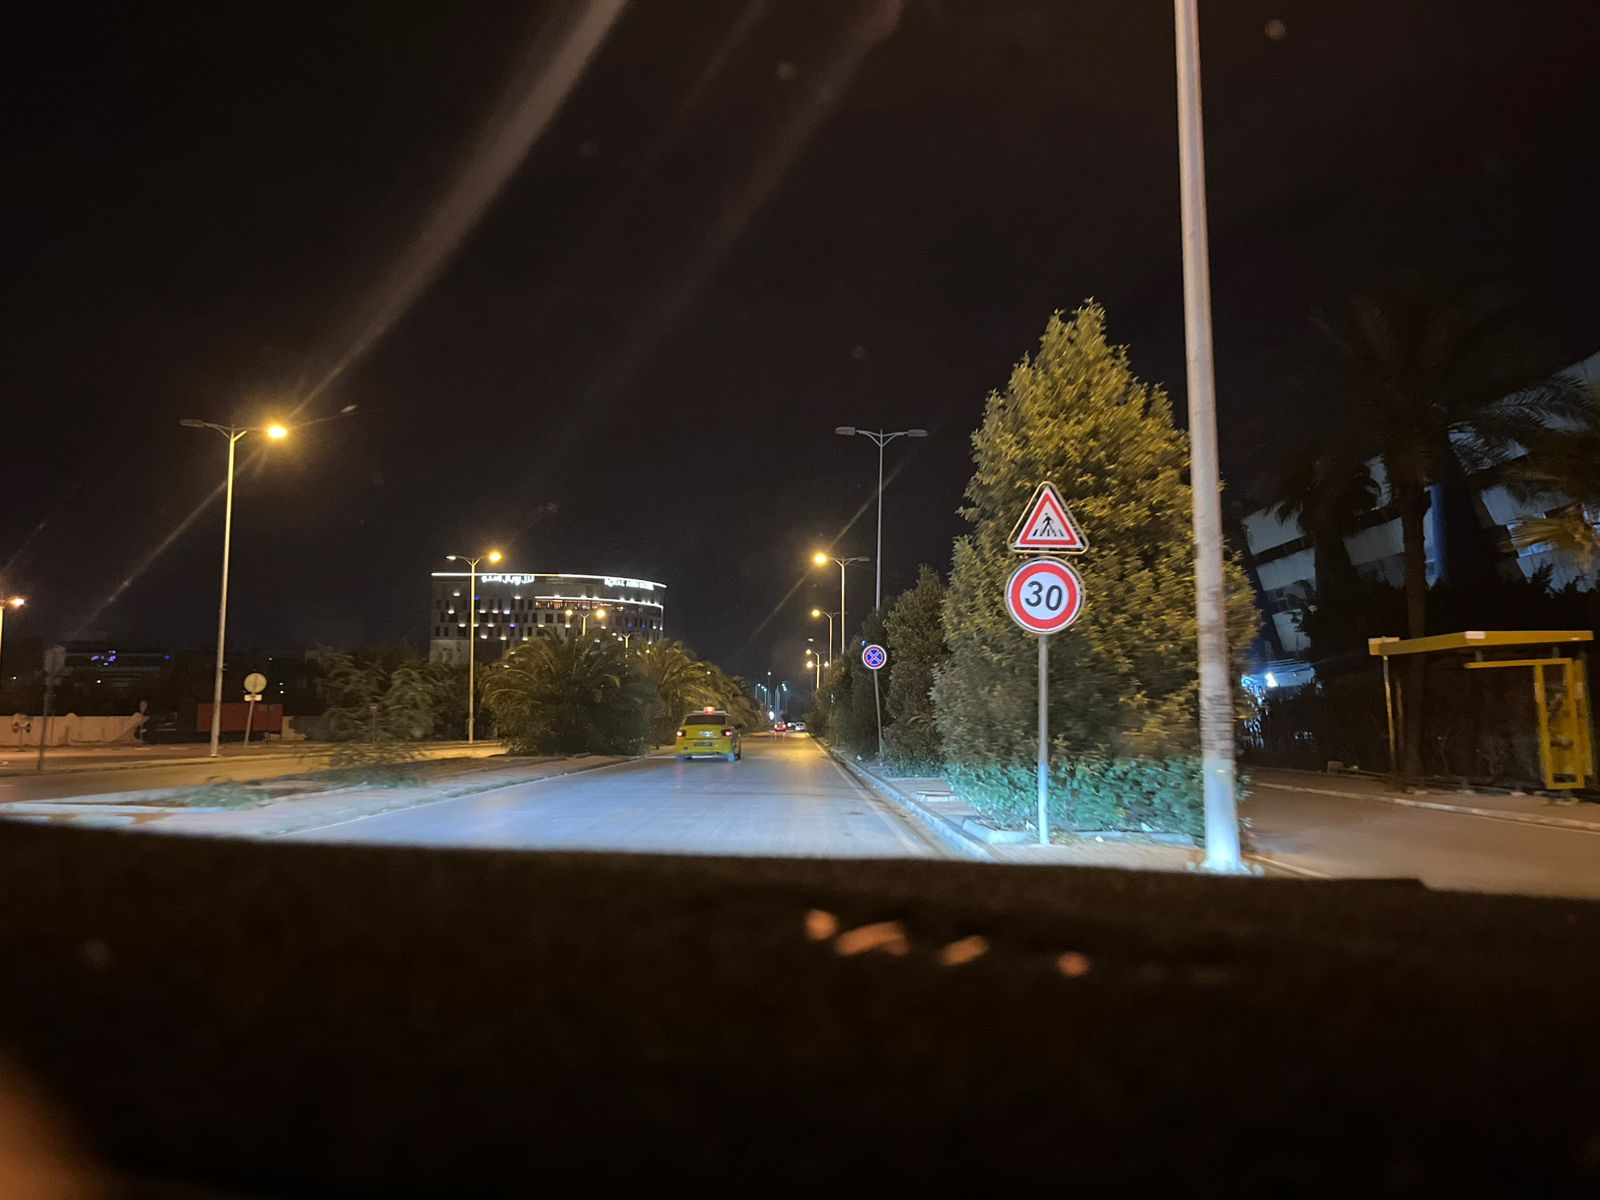SpeedLimit30: (1004, 555, 1086, 637)
